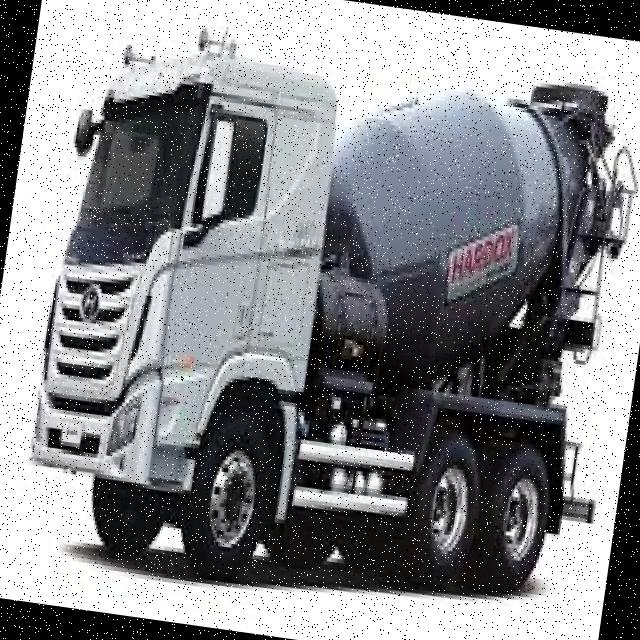Mixer Truck: (11, 9, 640, 630)
